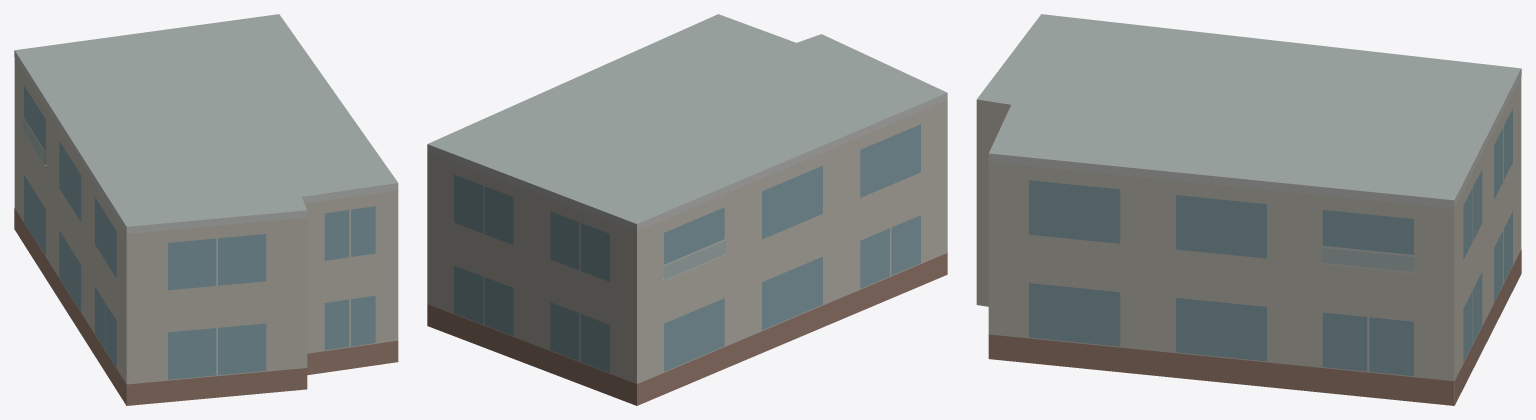
The model's file is survey-upis-32831375.glb.
3 renders of one model, left to right at view 1: azimuth 30°, elevation 25°; view 2: azimuth 150°, elevation 25°; view 3: azimuth 270°, elevation 25°, orthographic. The views are drawn at different scales.
Visible parts, largest first — view 1: survey-upis-32831375.tmp; view 2: survey-upis-32831375.tmp; view 3: survey-upis-32831375.tmp.
Boxes of the visible parts, <box> form: survey-upis-32831375.tmp: <box>14,14,398,405</box>; survey-upis-32831375.tmp: <box>427,14,947,405</box>; survey-upis-32831375.tmp: <box>976,14,1521,405</box>.
Size of the model in its own units: 11.87 by 6.1 by 14.66.
